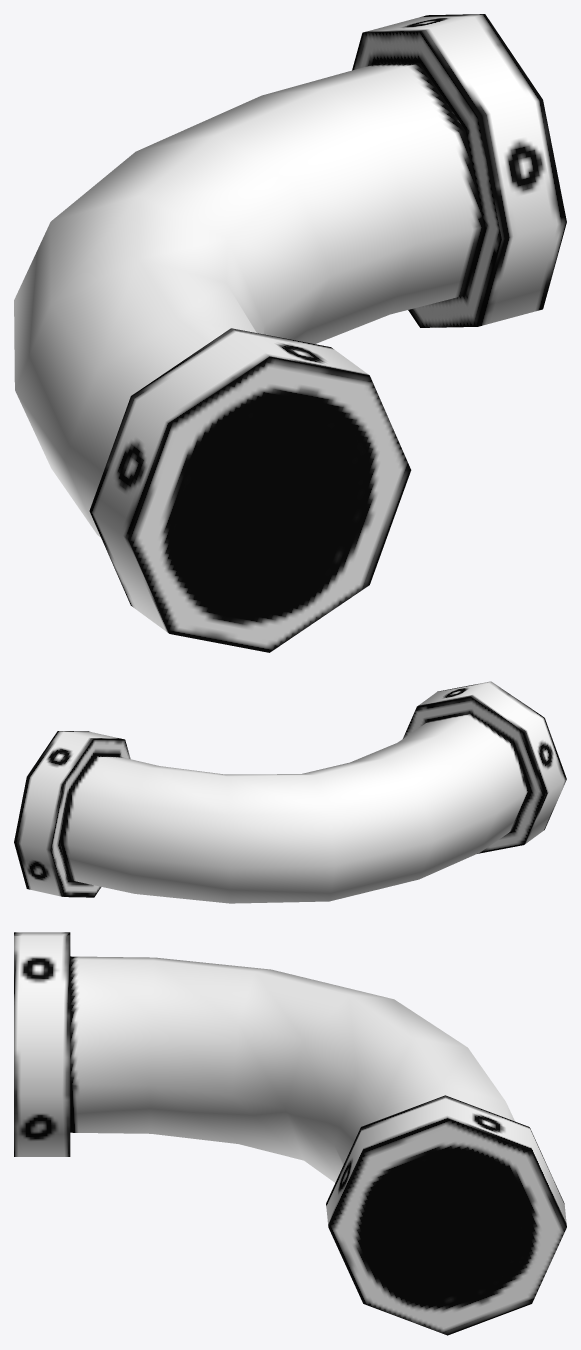
Rendered from Pipe1_Turn.glb.
The picture shows the model from 3 angles, top to bottom: view 1: azimuth 30°, elevation 25°; view 2: azimuth 150°, elevation 25°; view 3: azimuth 270°, elevation 25°; orthographic projection. The views are drawn at different scales.
Visible parts, largest first — view 1: Pipe1_Turn; view 2: Pipe1_Turn; view 3: Pipe1_Turn.
Part boxes in pixels (bbox=[...]): Pipe1_Turn: bbox=[14, 14, 566, 652]; Pipe1_Turn: bbox=[14, 681, 566, 903]; Pipe1_Turn: bbox=[14, 932, 566, 1335].
Size of the model in its own units: 0.6468 by 0.2801 by 0.6484.
Materials: 1 (1 with a texture image).
